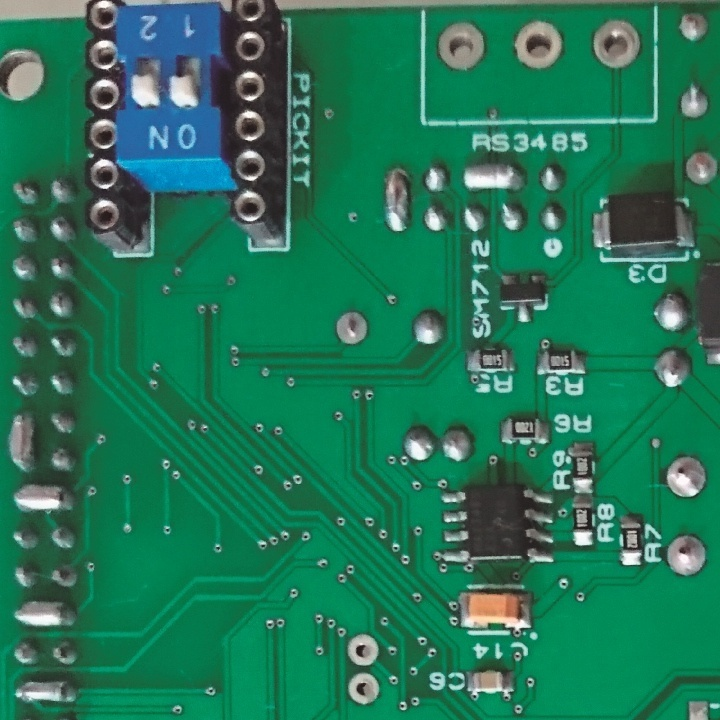F: (510, 15, 566, 74), (590, 17, 644, 75), (433, 19, 487, 75), (660, 451, 709, 502), (662, 531, 710, 580), (676, 80, 713, 123), (681, 149, 720, 187), (333, 306, 370, 346), (343, 631, 381, 669), (346, 669, 382, 709), (674, 9, 711, 46)
P: (459, 154, 528, 194), (379, 165, 414, 237), (9, 676, 83, 709), (11, 598, 79, 632), (10, 482, 78, 515), (4, 409, 37, 476)
